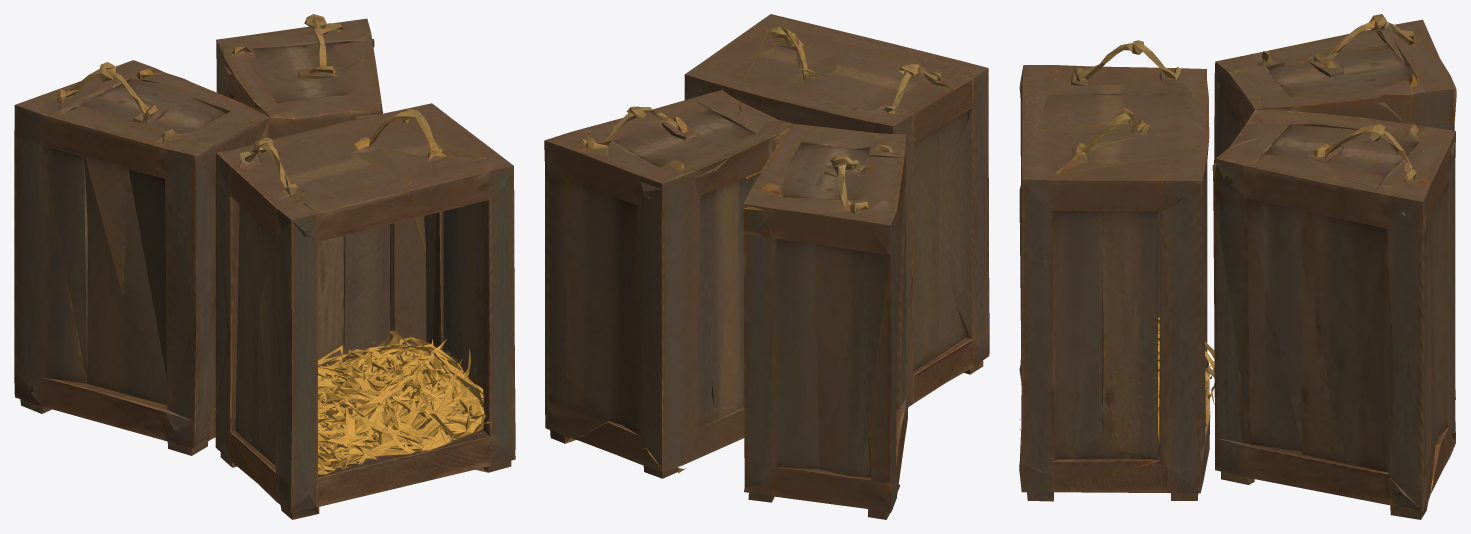
File: crates.glb
The picture shows the model from 3 angles, left to right: view 1: azimuth 30°, elevation 25°; view 2: azimuth 150°, elevation 25°; view 3: azimuth 270°, elevation 25°; orthographic projection. The views are drawn at different scales.
Bounding box in the file's own units: 1.87 × 1.72 × 1.89.
Materials: 1 (1 with a texture image).
